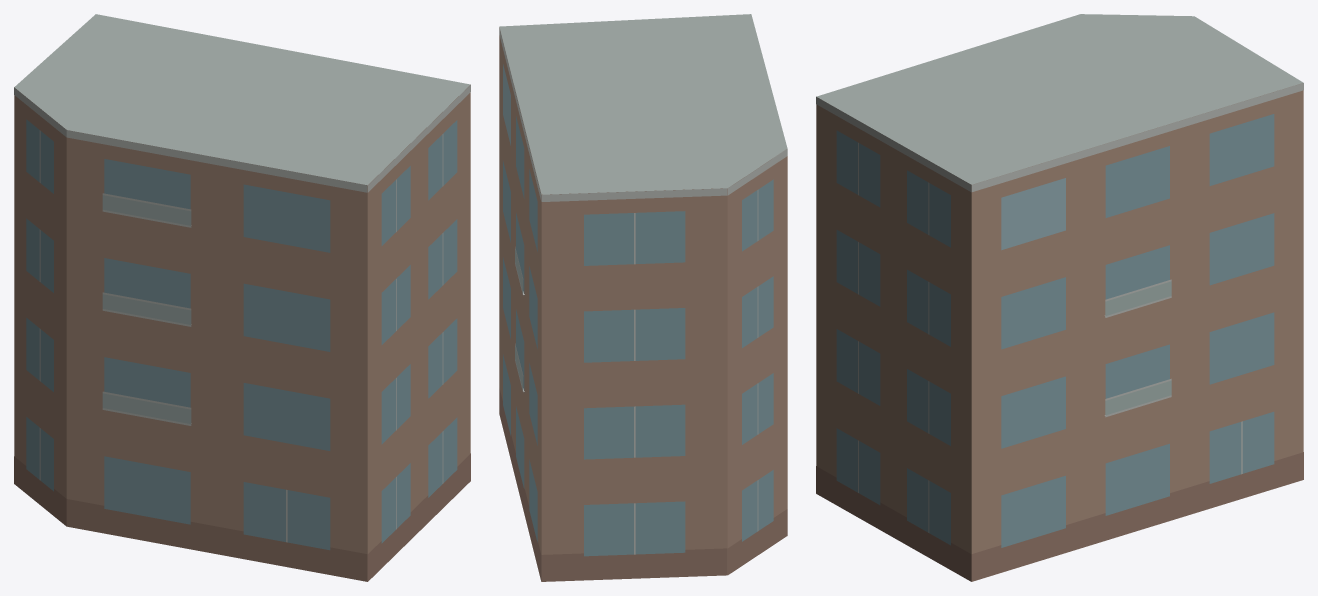
The model's file is survey-upis-33037762.glb.
3 renders of one model, left to right at view 1: azimuth 30°, elevation 25°; view 2: azimuth 150°, elevation 25°; view 3: azimuth 270°, elevation 25°, orthographic. The views are drawn at different scales.
Visible parts, largest first — view 1: survey-upis-33037762.tmp; view 2: survey-upis-33037762.tmp; view 3: survey-upis-33037762.tmp.
Part boxes in pixels (x1,y1,x2,y2): survey-upis-33037762.tmp: (14, 14, 470, 581); survey-upis-33037762.tmp: (499, 14, 787, 581); survey-upis-33037762.tmp: (816, 14, 1303, 581).
Bounding box in the file's own units: 11.82 × 12.8 × 14.25.
